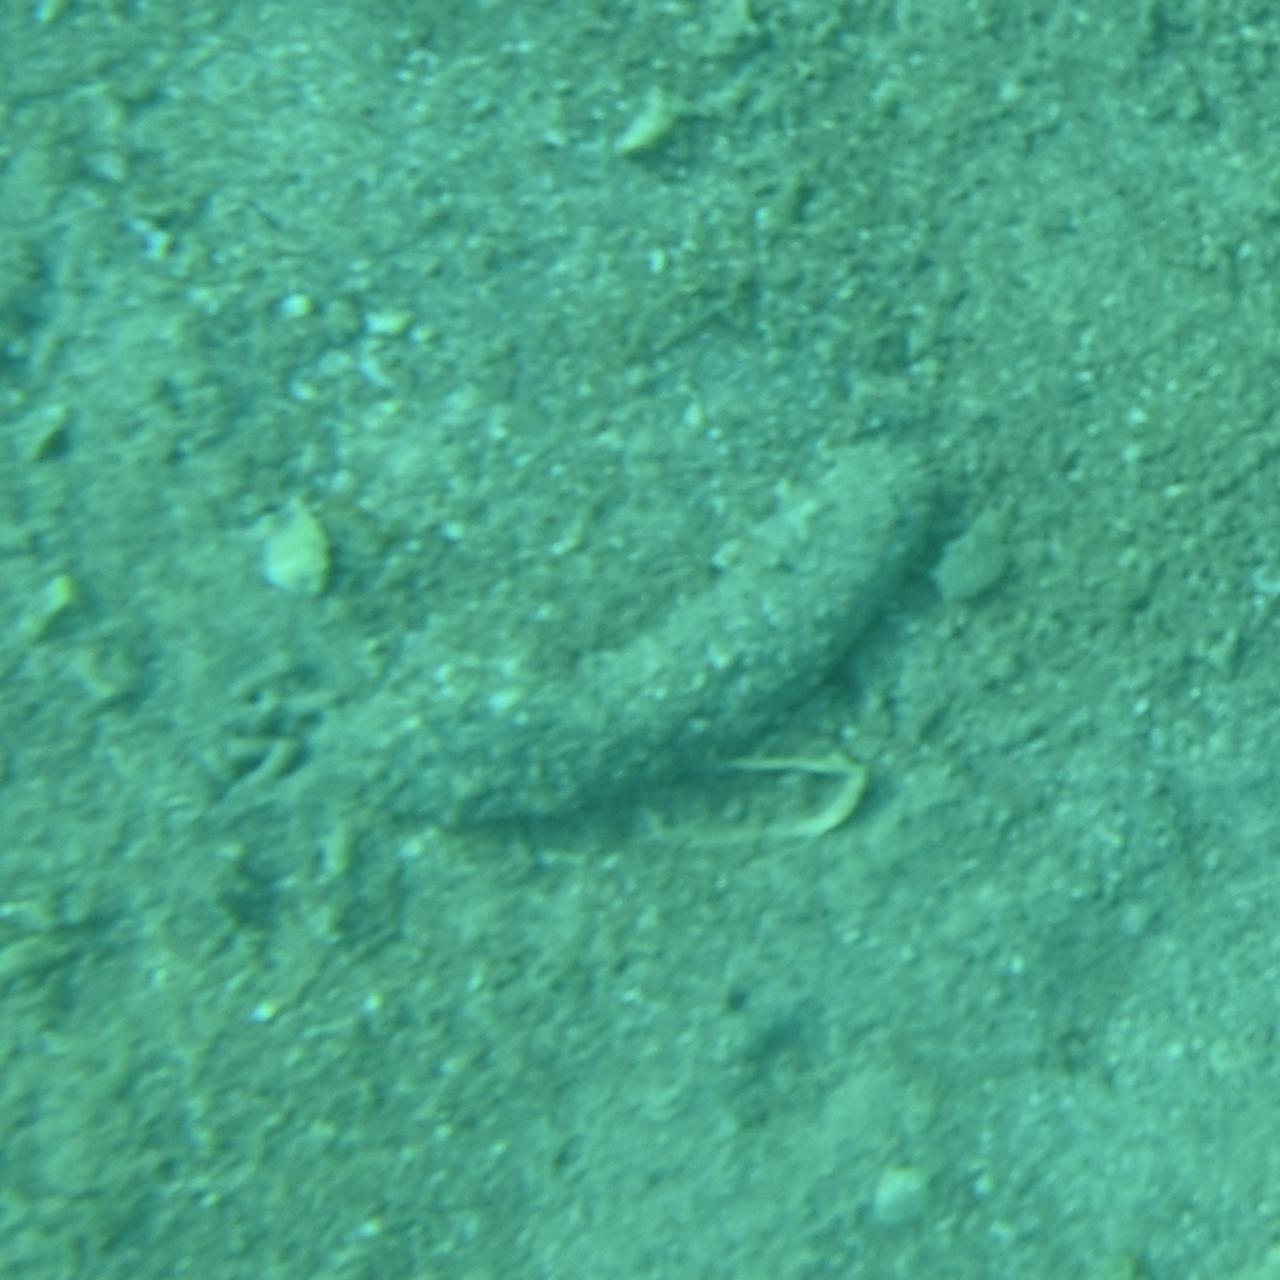Holothuria tubulosa: (302, 424, 978, 856)
